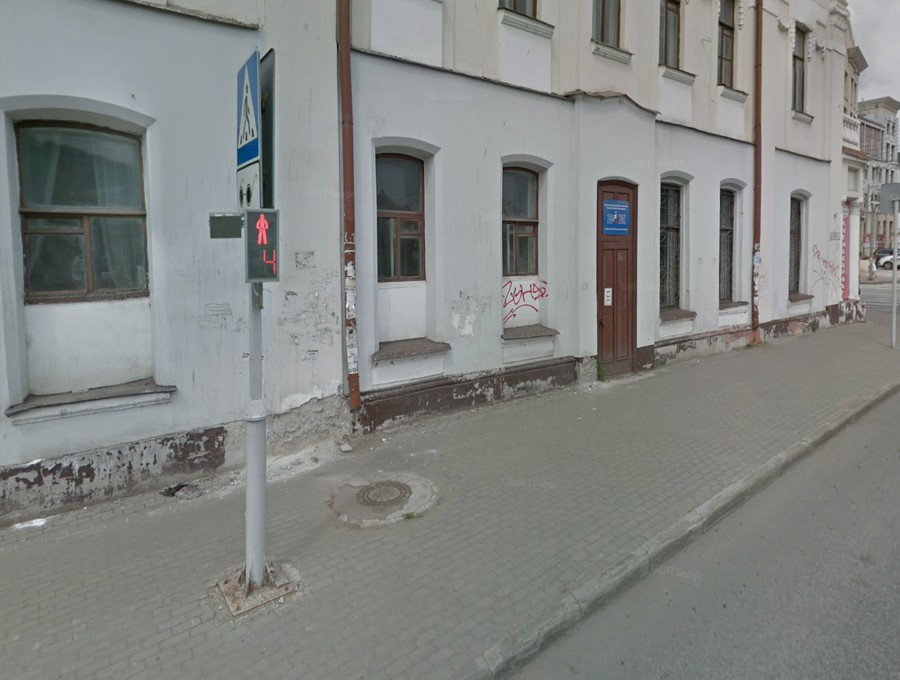Traffic Light-red: (243, 198, 284, 288)
